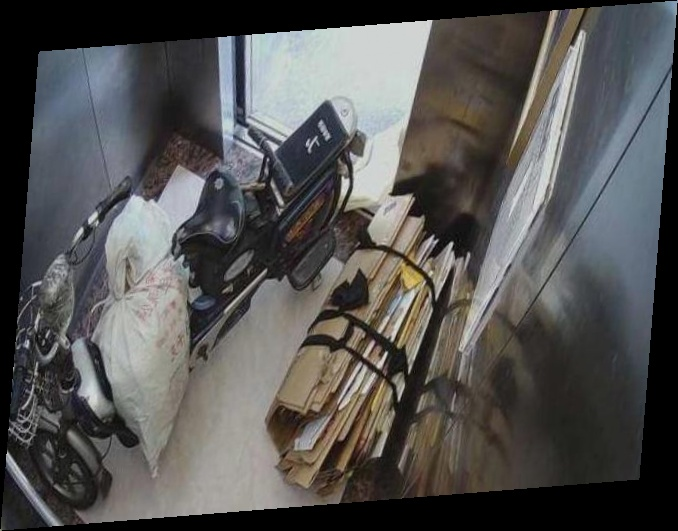box: (259, 194, 478, 496), (89, 191, 222, 475)
electromobile: (12, 91, 374, 498)
